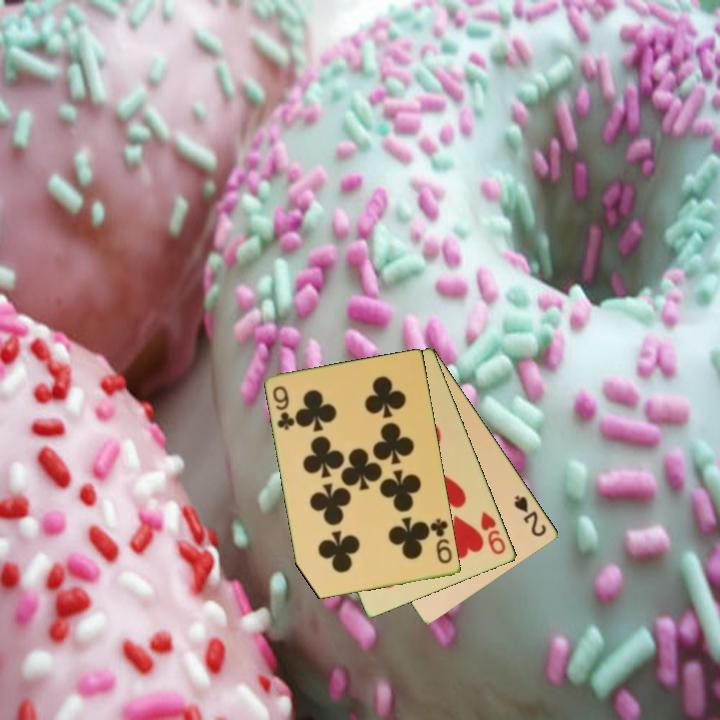2s: (511, 492, 550, 540)
9c: (427, 515, 456, 567), (269, 383, 298, 433)
9h: (477, 508, 509, 558)
